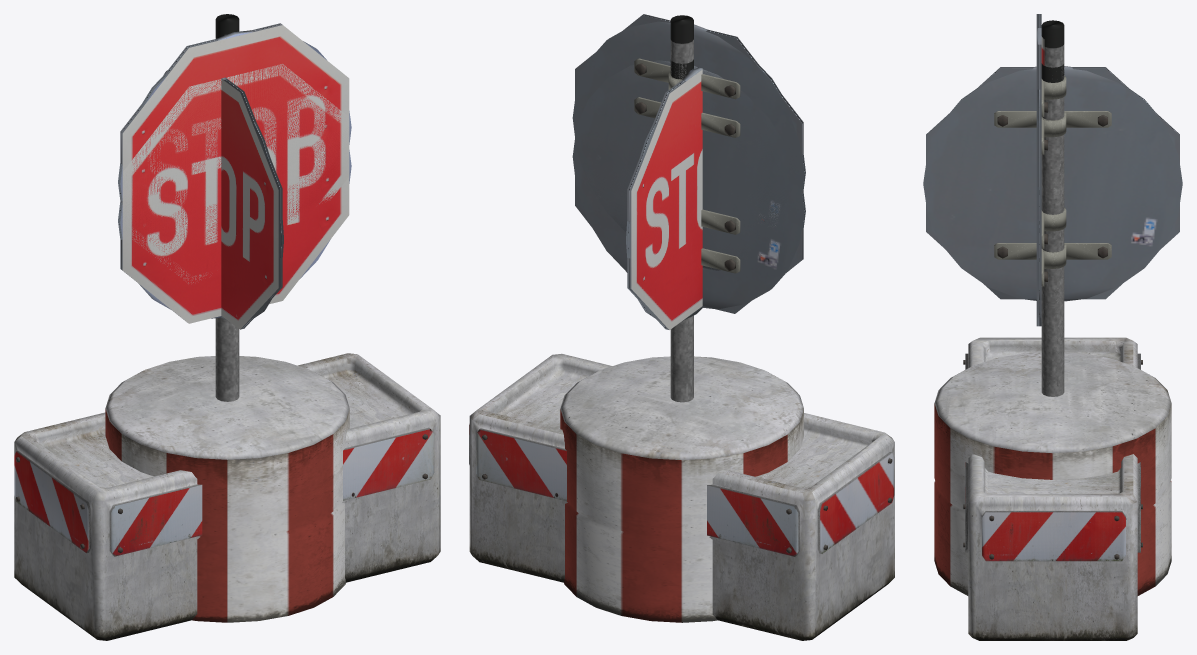
File: schilder_verkehrsfuehrung_01.fbx
3 views of the same model, side by side, from view 1: azimuth 30°, elevation 25°; view 2: azimuth 150°, elevation 25°; view 3: azimuth 270°, elevation 25° (orthographic). The views are drawn at different scales.
Visible parts, largest first — view 1: schild_und_stop, schild_block_laengst_30, schild_block_quer_stop, schild_block_laengst_stop, schild_und_durchfahrt_verboten; view 2: schild_block_laengst_30, schild_und_stop, schild_block_quer_durchfahrt_verboten, schild_und_durchfahrt_verboten, schild_block_laengst_stop, schild_block_quer_stop; view 3: schild_block_laengst_30, schild_und_stop, schild_block_quer_stop, schild_block_laengst_stop, schild_und_durchfahrt_verboten.
Boxes of the visible parts, x1=… form: schild_und_stop: x1=105, y1=14, x2=349, y2=622; schild_block_laengst_30: x1=14, y1=70, x2=440, y2=640; schild_block_quer_stop: x1=120, y1=64, x2=349, y2=323; schild_block_laengst_stop: x1=221, y1=79, x2=282, y2=329; schild_und_durchfahrt_verboten: x1=118, y1=30, x2=351, y2=201; schild_block_laengst_30: x1=469, y1=59, x2=894, y2=640; schild_und_stop: x1=560, y1=14, x2=803, y2=622; schild_block_quer_durchfahrt_verboten: x1=572, y1=60, x2=805, y2=309; schild_und_durchfahrt_verboten: x1=572, y1=21, x2=805, y2=270; schild_block_laengst_stop: x1=627, y1=69, x2=702, y2=329; schild_block_quer_stop: x1=575, y1=60, x2=803, y2=402; schild_block_laengst_30: x1=923, y1=63, x2=1182, y2=640; schild_und_stop: x1=934, y1=14, x2=1171, y2=595; schild_block_quer_stop: x1=1036, y1=64, x2=1065, y2=396; schild_block_laengst_stop: x1=926, y1=67, x2=1179, y2=299; schild_und_durchfahrt_verboten: x1=1037, y1=28, x2=1041, y2=224.
Bounding box in the file's own units: 148 × 220 × 96.22.
